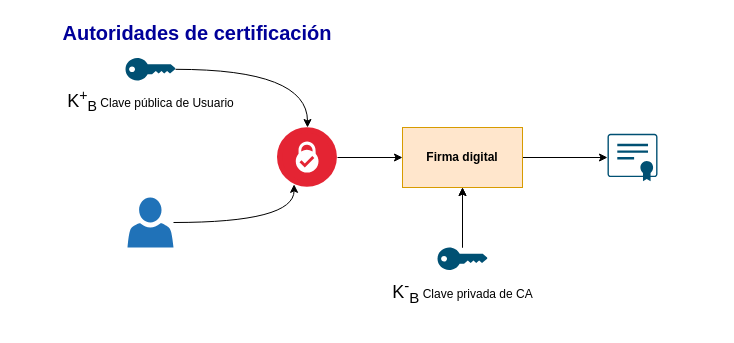
Image size: 734x343. Some labels were removed from this diagram. Each missing label, with the box of its shape:
Certificado de la clave pública del usuario firmado por la CA: (607, 133, 657, 181)
Información de identificación de usuario: (127, 197, 173, 247)
